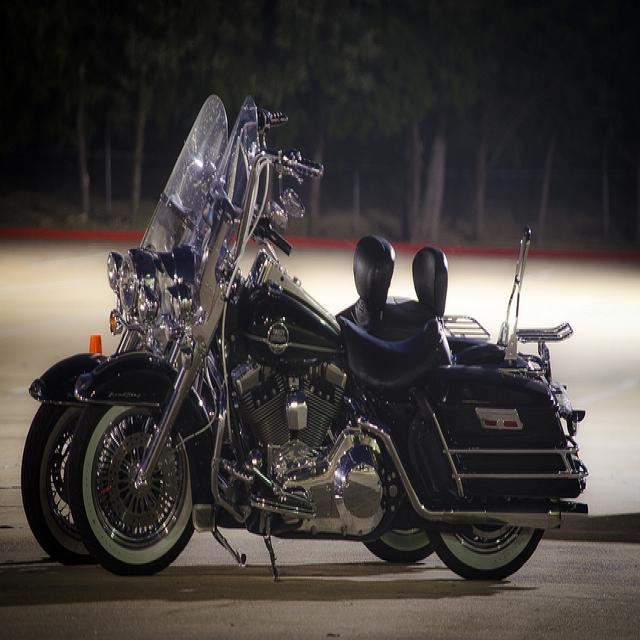motor: (68, 102, 583, 590), (20, 93, 413, 566)
